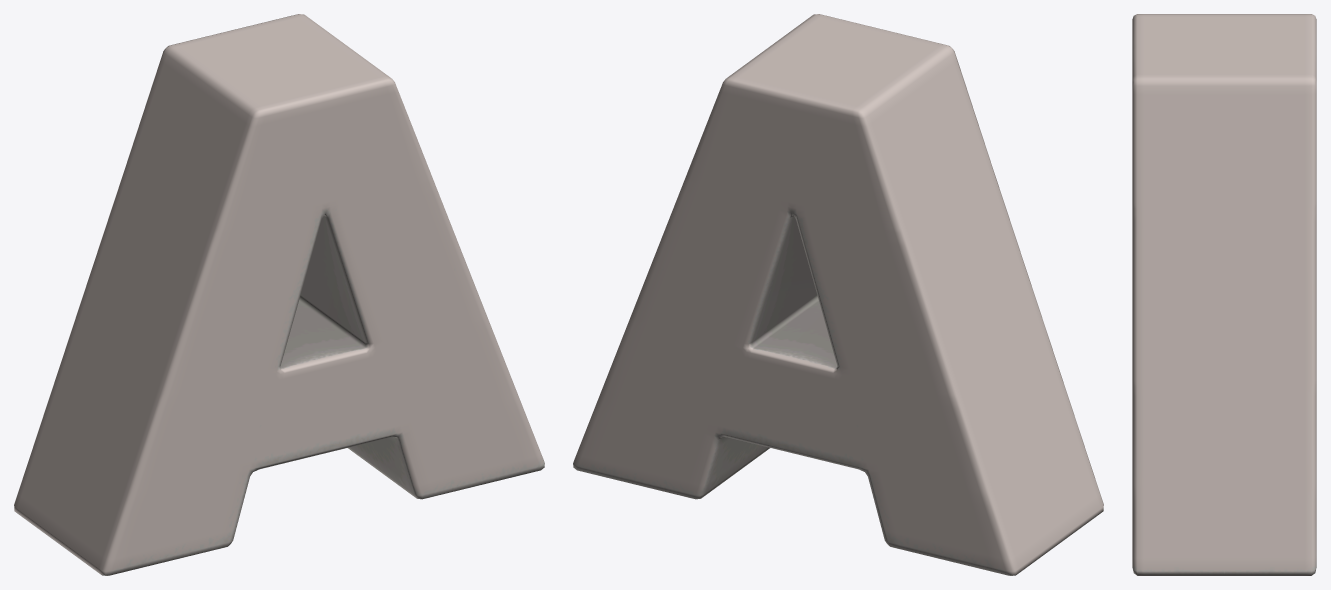
3 renders of one model, left to right at view 1: azimuth 30°, elevation 25°; view 2: azimuth 150°, elevation 25°; view 3: azimuth 270°, elevation 25°, orthographic.
Visible parts, largest first — view 1: node_id30; view 2: node_id30; view 3: node_id30.
Part boxes in pixels (x1,y1,x2,y2): node_id30: [14, 14, 544, 575]; node_id30: [573, 14, 1103, 575]; node_id30: [1132, 14, 1316, 575].
Size of the model in its own units: 0.512 by 0.4741 by 0.1862.
Materials: 1 (1 with a texture image).
